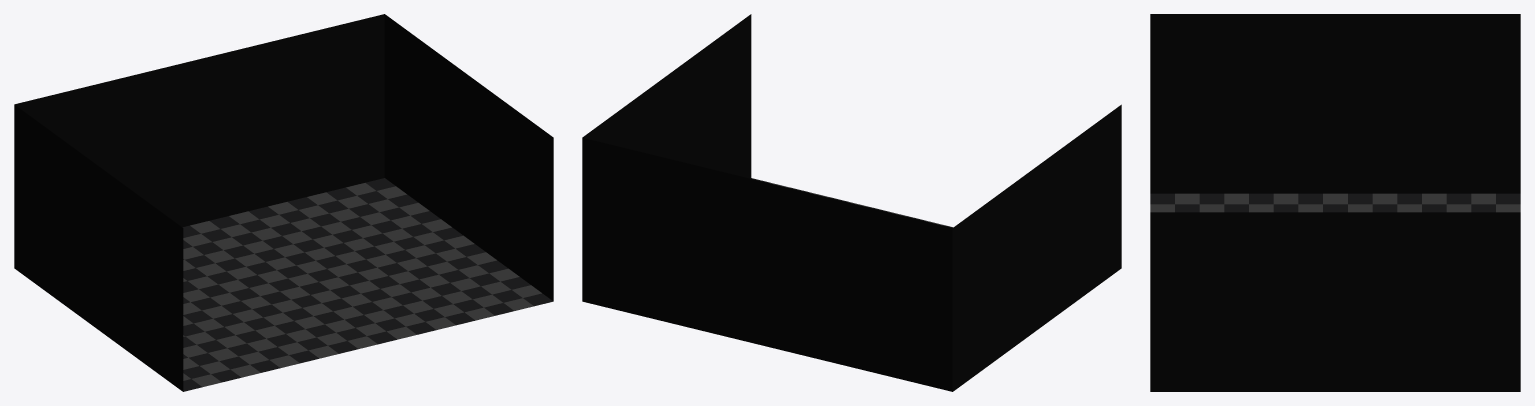
Rendered from character customization room.fbx.
3 views of the same model, side by side, from view 1: azimuth 30°, elevation 25°; view 2: azimuth 150°, elevation 25°; view 3: azimuth 270°, elevation 25° (orthographic). The views are drawn at different scales.
Parts seen in each view (by area): view 1: 0.Floor; view 2: 0.Floor; view 3: 0.Floor.
Part boxes in pixels (x1,y1,x2,y2): 0.Floor: (14, 14, 553, 391); 0.Floor: (582, 14, 1121, 391); 0.Floor: (1150, 14, 1520, 391).
Bounding box in the file's own units: 19 × 8.04 × 15.
